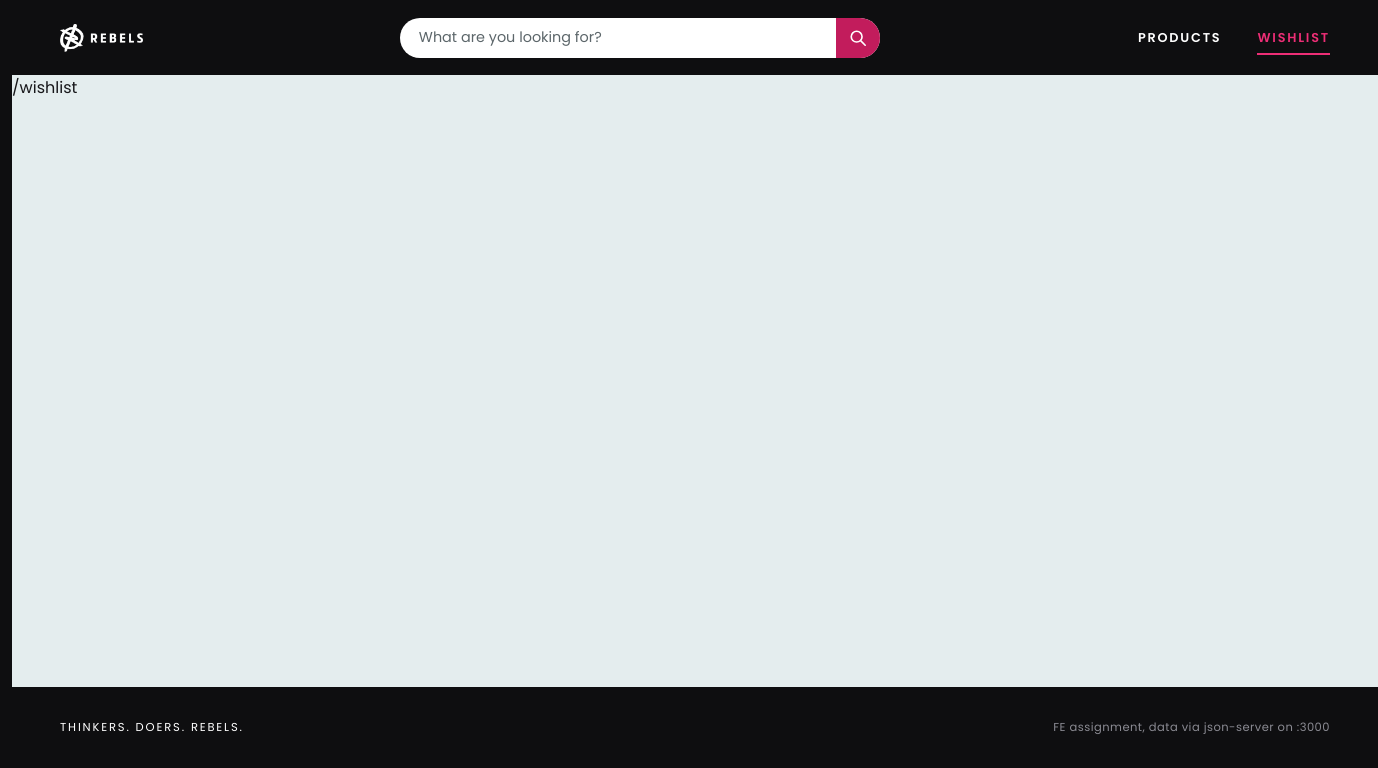
Test: HeaderSearch › picking a category suggestion filters the listing by that category
The image size is (1378, 768).
Type "access" into the dropdown named "Search products" at (618, 38), box [400, 18, 836, 58]
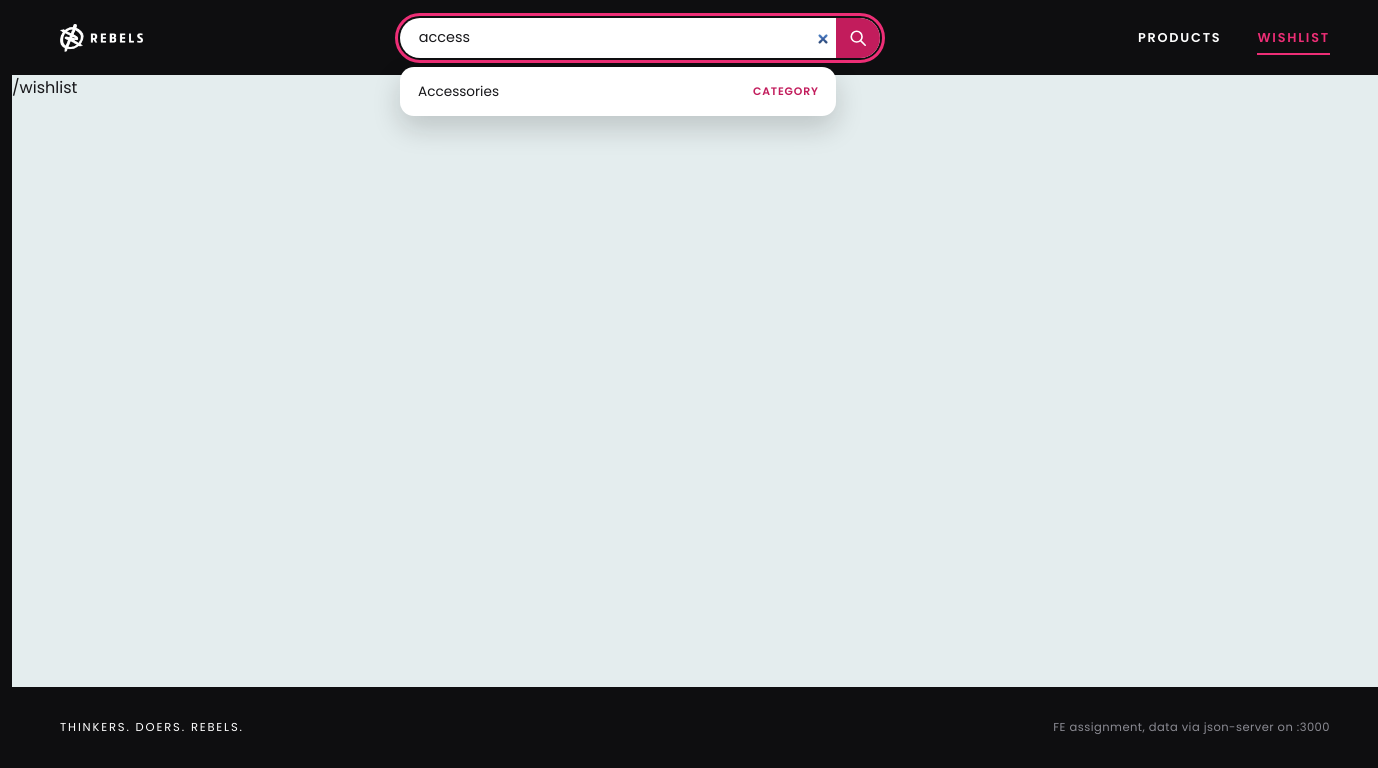
Click the option "Accessories Category" at (459, 91), box [418, 82, 819, 101]
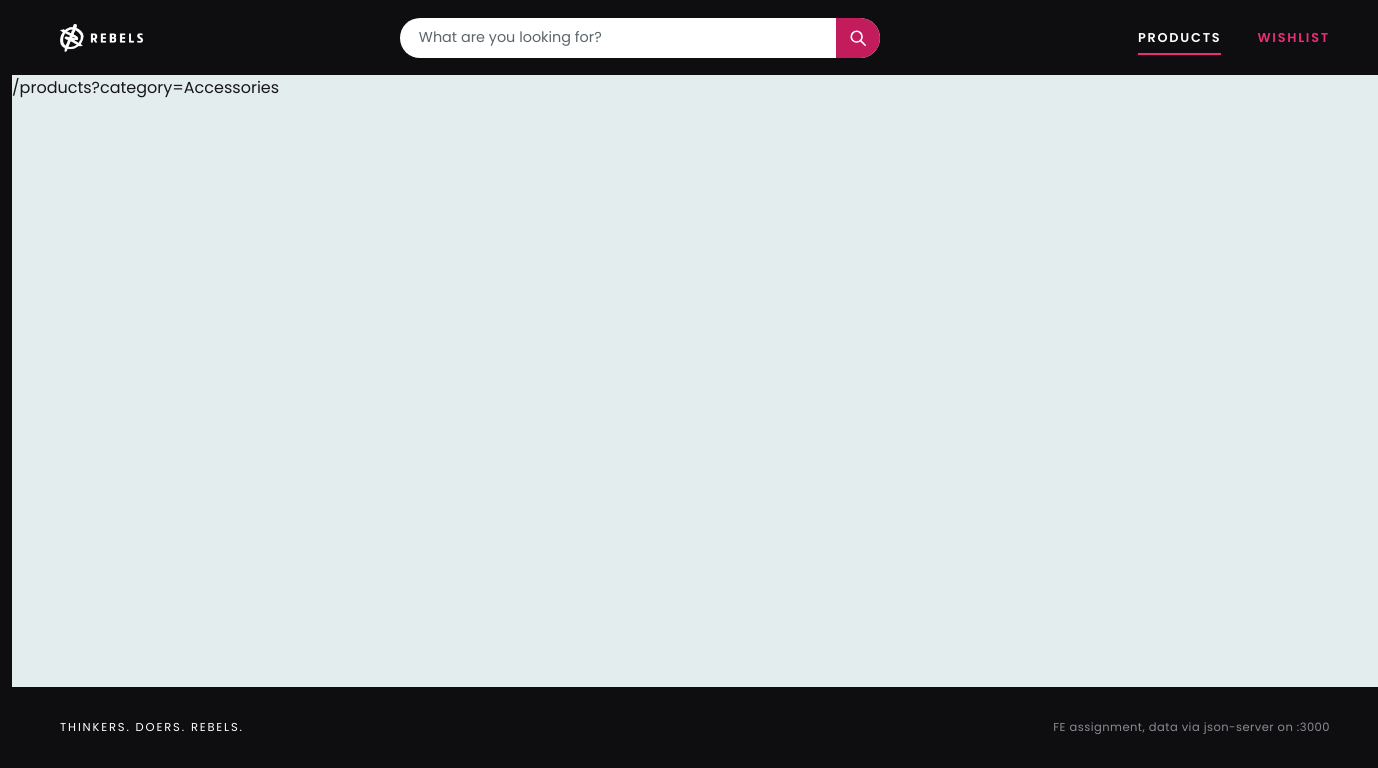
Result: the text with test id "location" reads "/products?category=Accessories" at [12, 76, 279, 99]
Result: the dropdown named "Search products" is empty at [400, 18, 836, 58]
